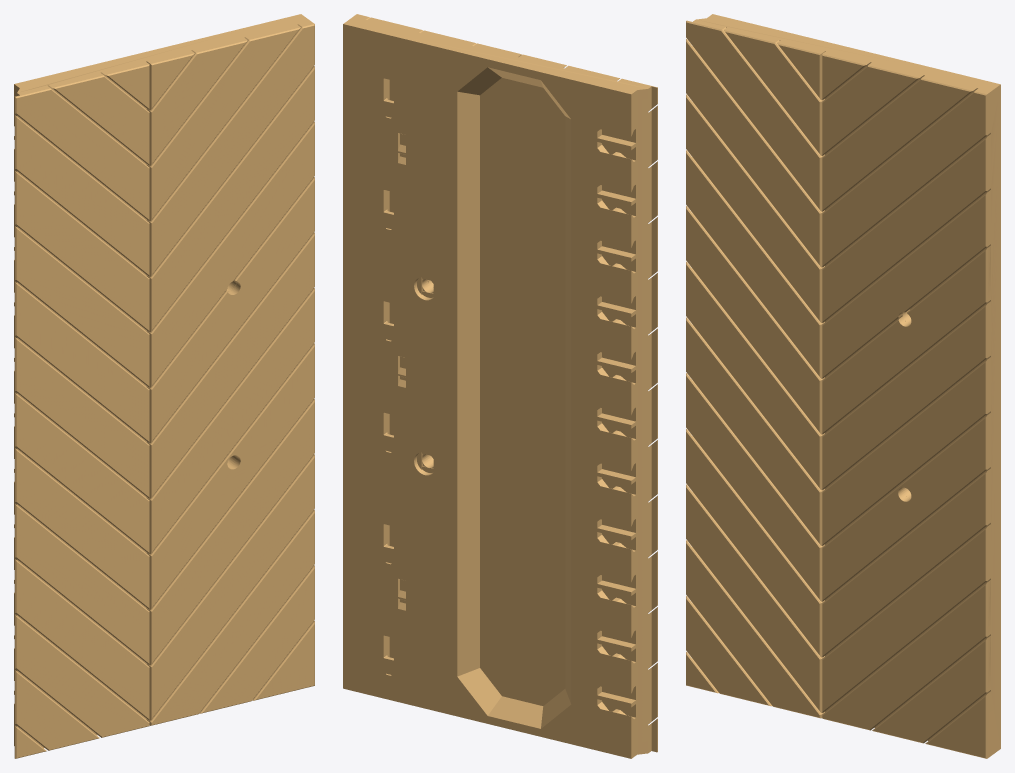
File: Door_Chevron_1W-3H.lib.glb
3 views of the same model, side by side, from view 1: azimuth 30°, elevation 25°; view 2: azimuth 150°, elevation 25°; view 3: azimuth 330°, elevation 25° (orthographic).
Visible parts, largest first — view 1: Door_Chevron_1W-3H; view 2: Door_Chevron_1W-3H; view 3: Door_Chevron_1W-3H.
Boxes of the visible parts, x1,y1,x2,y2 form: Door_Chevron_1W-3H: (14,14,314,758); Door_Chevron_1W-3H: (343,14,657,758); Door_Chevron_1W-3H: (686,14,1000,758).
Bounding box in the file's own units: 79.14 × 167 × 6.5.
